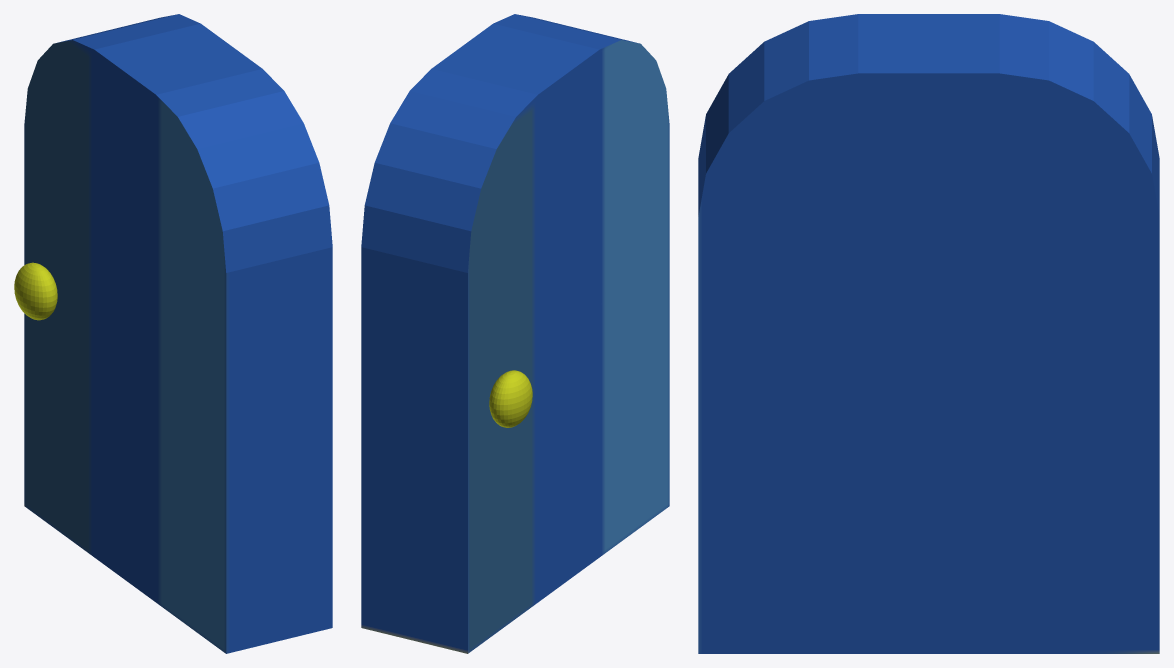
File: Door.obj
3 renders of one model, left to right at view 1: azimuth 30°, elevation 25°; view 2: azimuth 150°, elevation 25°; view 3: azimuth 270°, elevation 25°, orthographic. The views are drawn at different scales.
Parts seen in each view (by area): view 1: 立方体; view 2: 立方体; view 3: 立方体.
Boxes of the visible parts, x1,y1,x2,y2 form: 立方体: (14, 14, 332, 653); 立方体: (361, 14, 669, 653); 立方体: (698, 14, 1159, 653).
Bounding box in the file's own units: 0.5707 × 2 × 1.44.
Materials: 1 (1 with a texture image).
